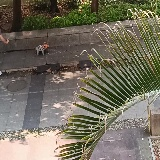fire: (43, 40, 47, 48)
